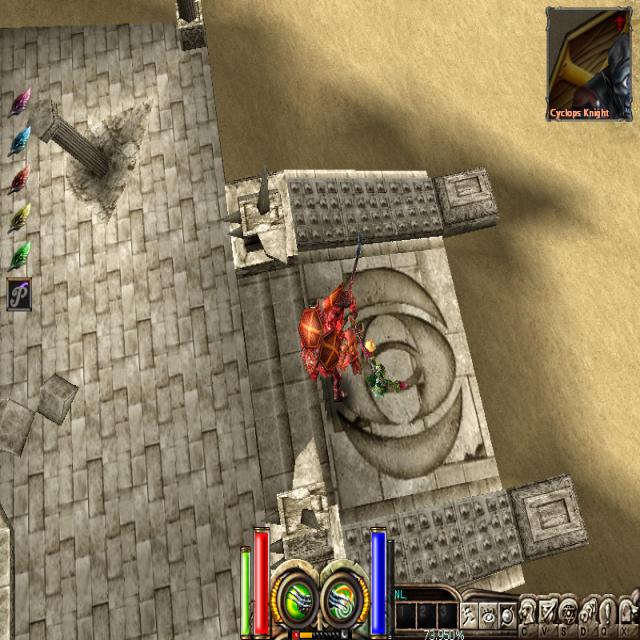monster: (316, 323, 358, 404)
